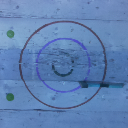Axe Tip: (78, 80, 87, 82)
